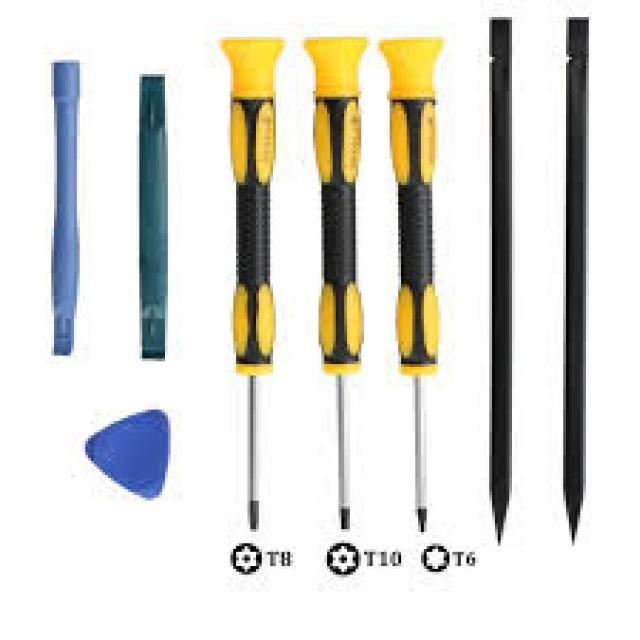screwdriver: (200, 25, 292, 532), (290, 24, 380, 538), (371, 26, 461, 538)
